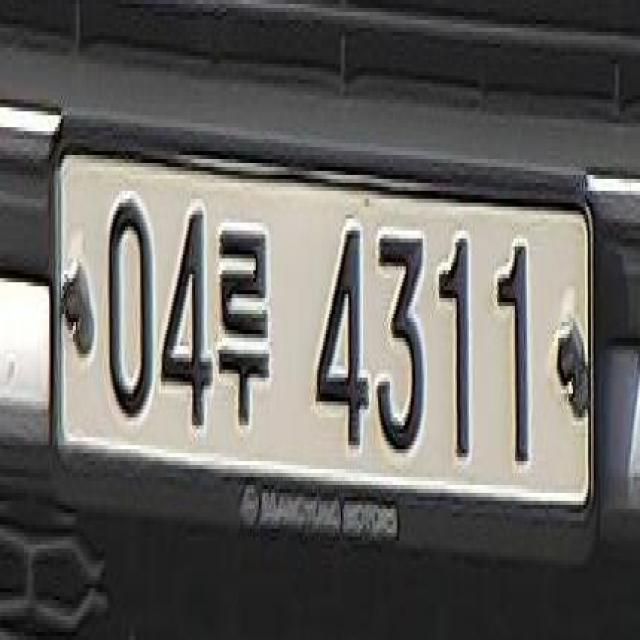illegal_plate: (44, 139, 606, 570)
